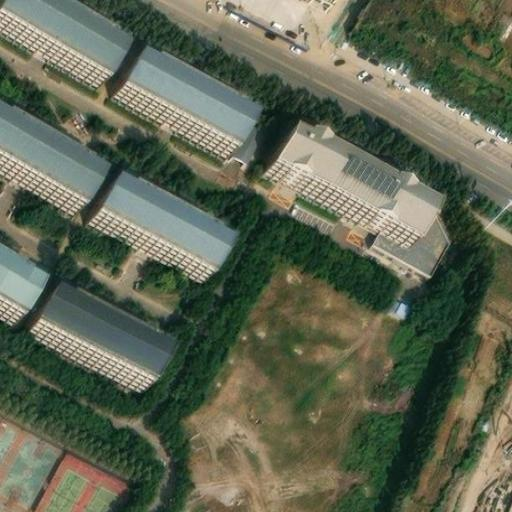building: (280, 108, 448, 230), (120, 50, 257, 154), (95, 177, 232, 279), (35, 290, 172, 389), (0, 416, 57, 512), (383, 291, 414, 319)
